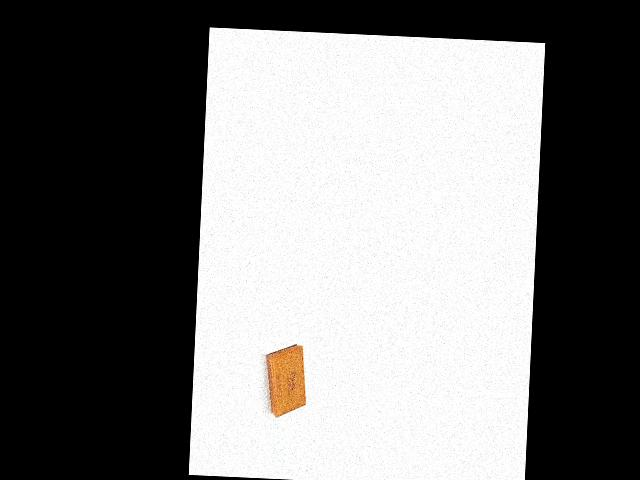chocolate: (256, 340, 311, 418)
